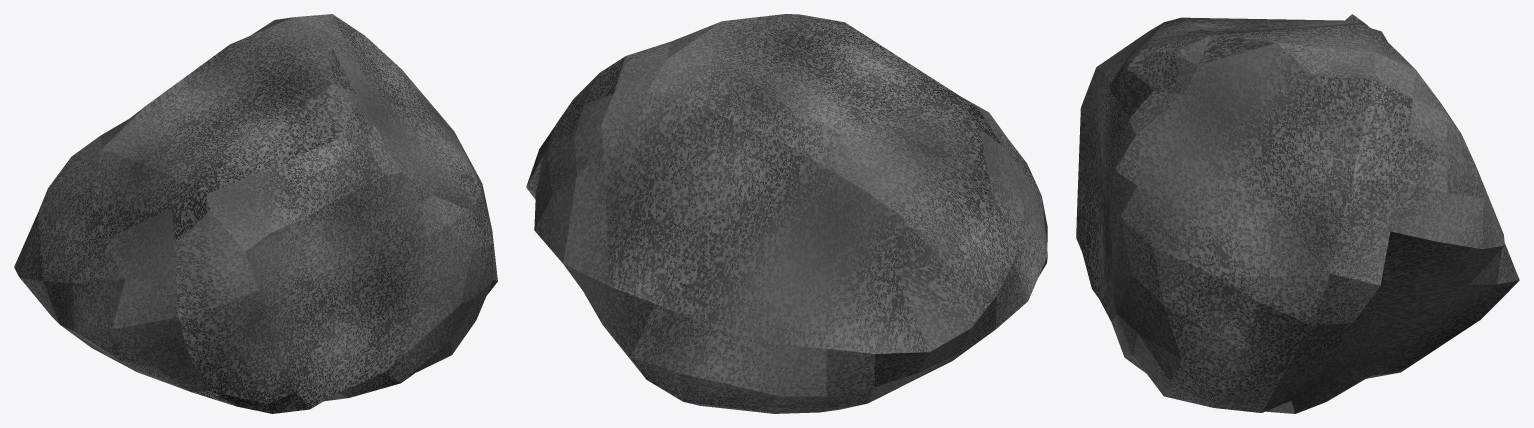
Rendered from stone1.glb.
3 views of the same model, side by side, from view 1: azimuth 30°, elevation 25°; view 2: azimuth 150°, elevation 25°; view 3: azimuth 270°, elevation 25° (orthographic). The views are drawn at different scales.
Parts seen in each view (by area): view 1: Cube; view 2: Cube; view 3: Cube.
Boxes of the visible parts, left/top/right/bottom form: Cube: left=14, top=14, right=497, bottom=413; Cube: left=526, top=14, right=1047, bottom=413; Cube: left=1076, top=14, right=1519, bottom=413.
Size of the model in its own units: 1.98 by 1.39 by 1.61.
Materials: 1 (1 with a texture image).
